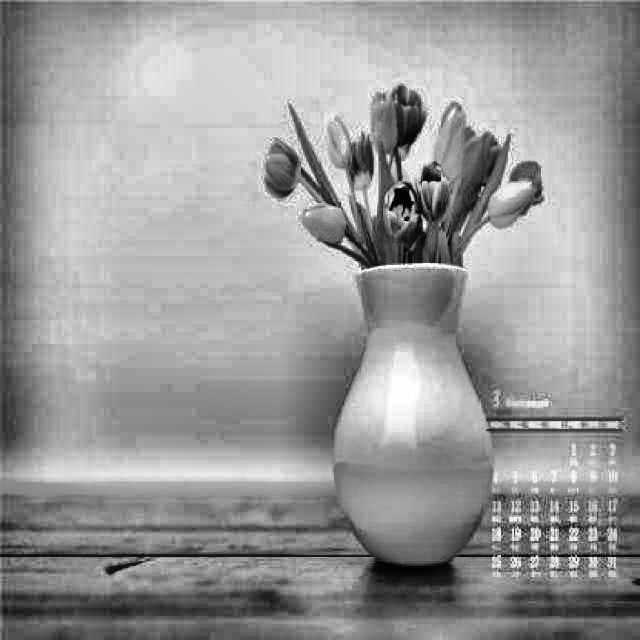plants: (320, 86, 500, 556)
